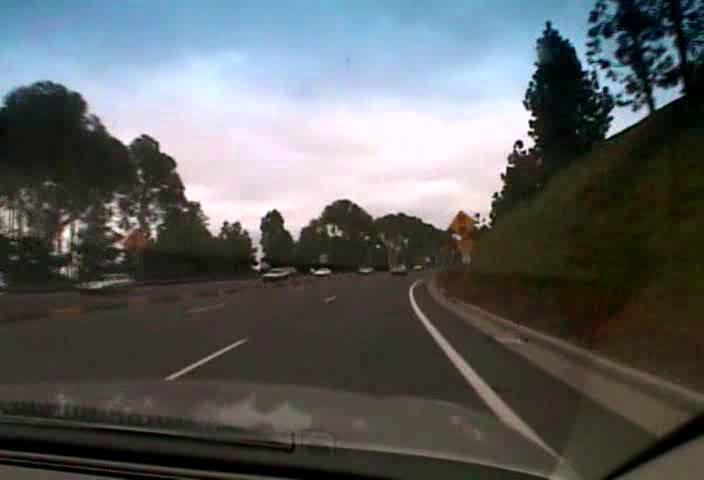signalAhead: (448, 210, 476, 238)
